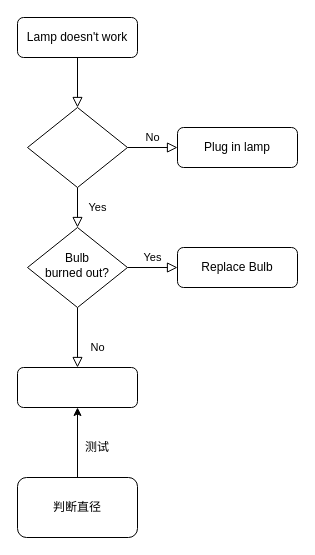
Image size: 315x555. Some labels were removed from this diagram. Each missing label, with the centre of its shape:
"Lamp plugged in?" belongs at [77,147].
"Repair Lamp" belongs at [77,387].
